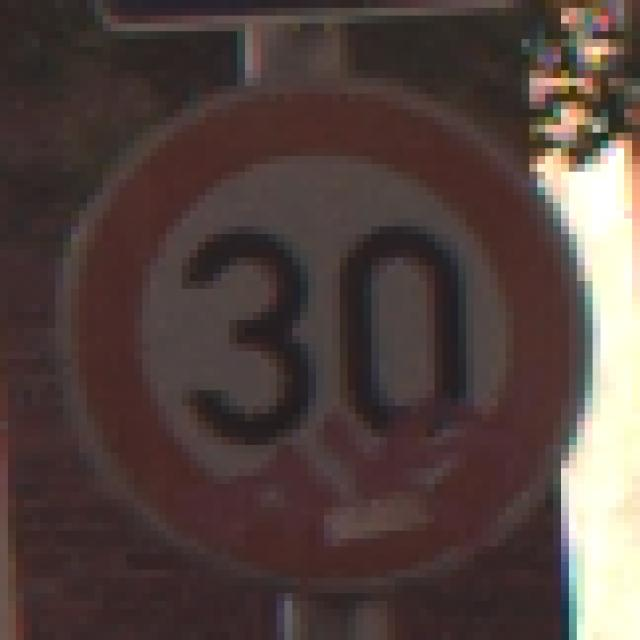Speed Limit -30-: (55, 59, 569, 574)
